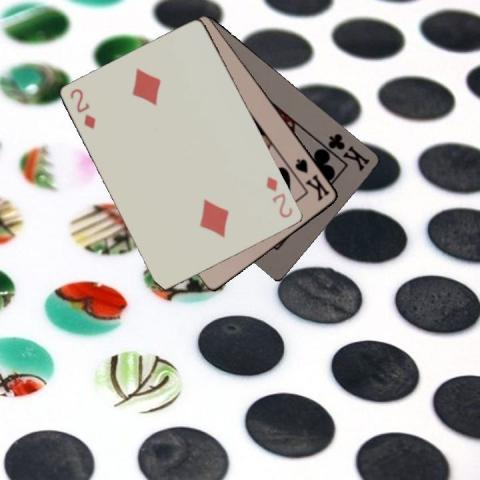2d: (263, 174, 295, 220), (67, 85, 98, 131)
Kc: (325, 130, 372, 173)
Ks: (292, 155, 331, 203)
